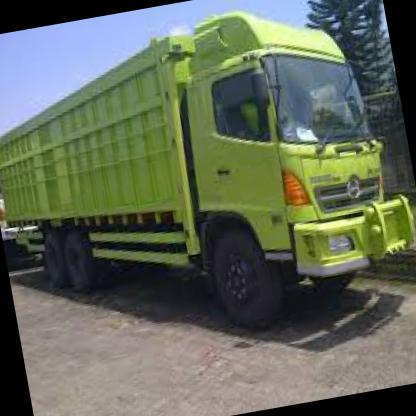truck: (176, 25, 413, 338)
